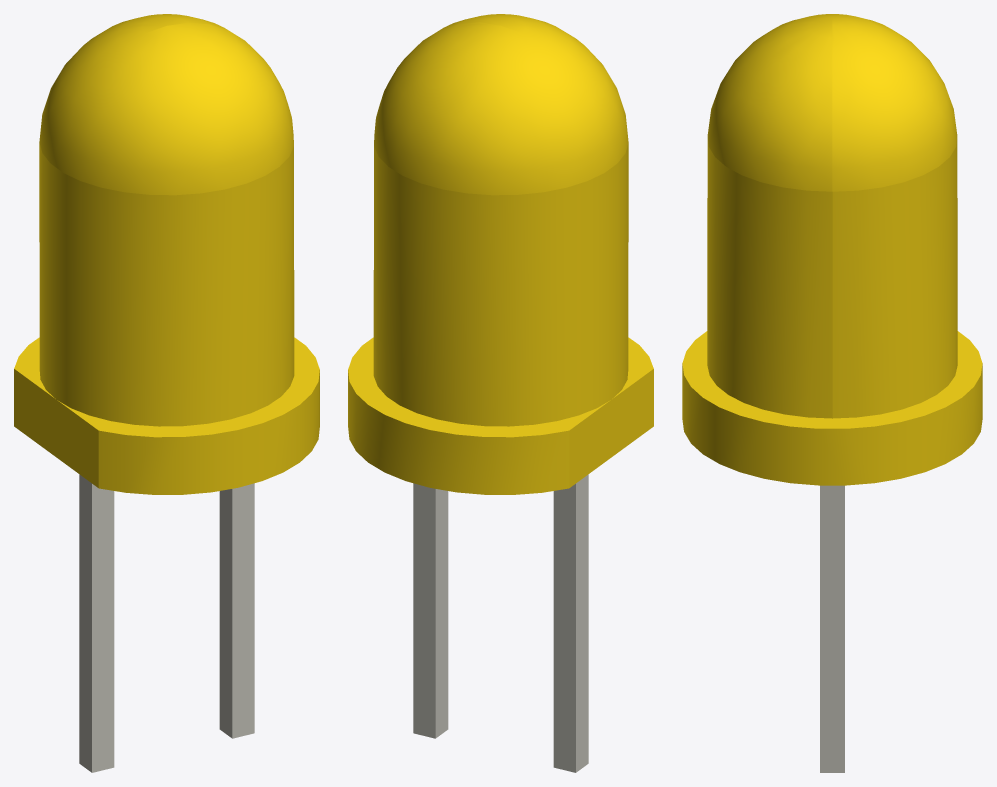
Rendered from kc-led_d4.0mm_yellow.glb.
3 renders of one model, left to right at view 1: azimuth 30°, elevation 25°; view 2: azimuth 150°, elevation 25°; view 3: azimuth 270°, elevation 25°, orthographic.
Visible parts, largest first — view 1: 0.9166666666666666_0.6666666666666666_0_0, 0.6666666666666666_0.6666666666666666_0.5833333333333334_0.8; view 2: 0.9166666666666666_0.6666666666666666_0_0, 0.6666666666666666_0.6666666666666666_0.5833333333333334_0.8; view 3: 0.9166666666666666_0.6666666666666666_0_0, 0.6666666666666666_0.6666666666666666_0.5833333333333334_0.8.
Part boxes in pixels (x1,y1,x2,y2): 0.9166666666666666_0.6666666666666666_0_0: (14, 14, 319, 494); 0.6666666666666666_0.6666666666666666_0.5833333333333334_0.8: (79, 474, 254, 772); 0.9166666666666666_0.6666666666666666_0_0: (348, 14, 653, 494); 0.6666666666666666_0.6666666666666666_0.5833333333333334_0.8: (413, 474, 588, 772); 0.9166666666666666_0.6666666666666666_0_0: (682, 14, 982, 485); 0.6666666666666666_0.6666666666666666_0.5833333333333334_0.8: (820, 485, 844, 772).
Bounding box in the file's own units: 0.4389 × 1.25 × 0.4797.
